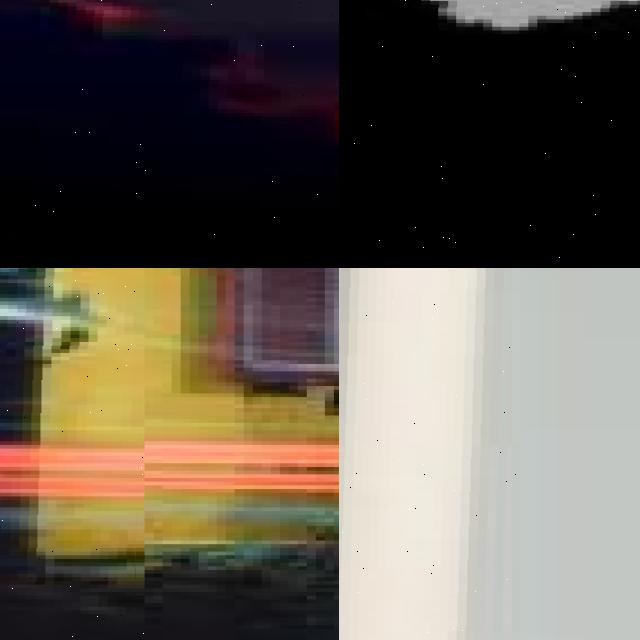street light: (0, 0, 339, 268), (339, 0, 640, 268), (339, 268, 520, 640), (0, 268, 144, 640)
